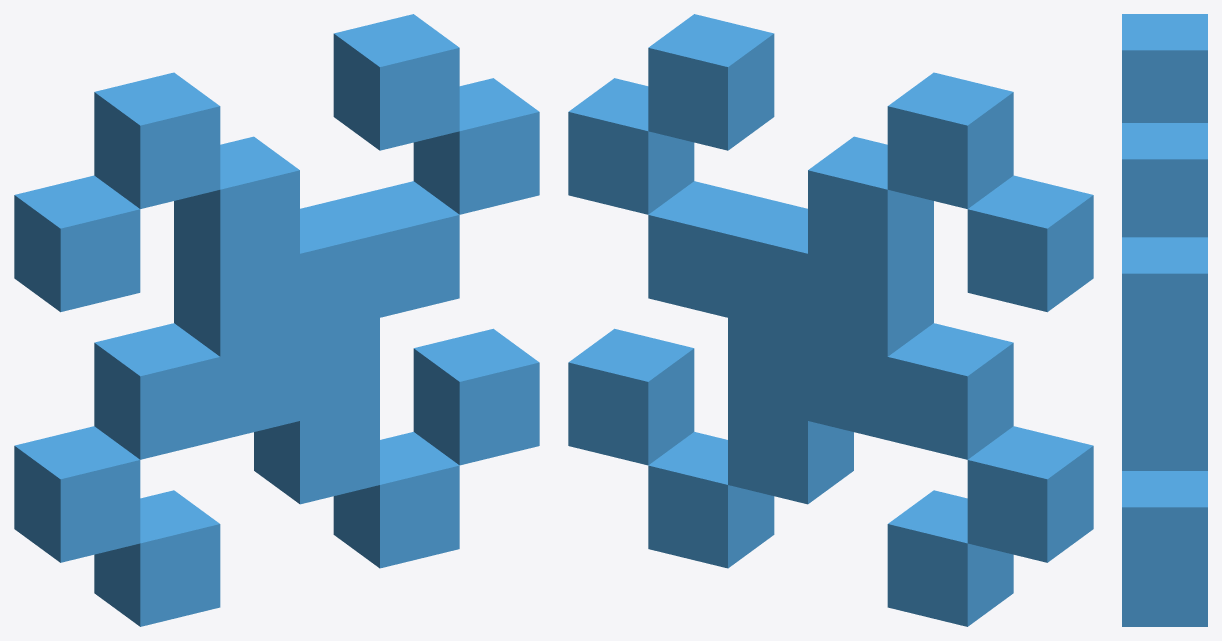
The model's file is Fireball-Small-Blue.vox.obj.
3 renders of one model, left to right at view 1: azimuth 30°, elevation 25°; view 2: azimuth 150°, elevation 25°; view 3: azimuth 270°, elevation 25°, orthographic. The views are drawn at different scales.
Bounding box in the file's own units: 0.6 × 0.6 × 0.1.
1 material, 1 textured.
